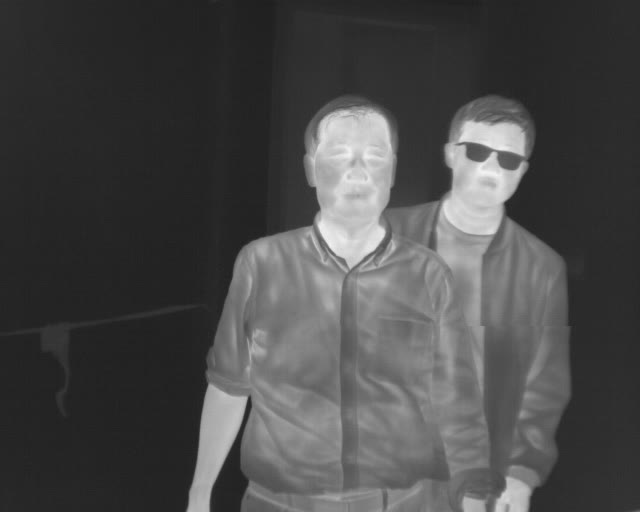face: (303, 94, 397, 225), (442, 93, 536, 210)
